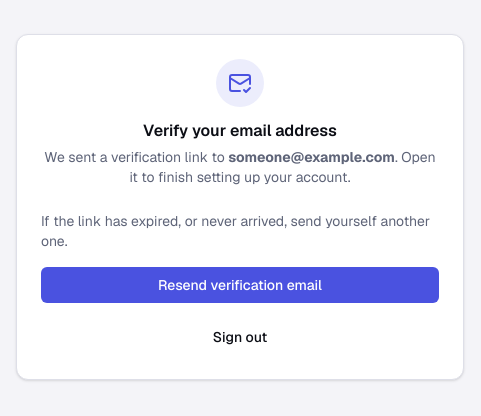
it: VerifyEmailNotice › resends and then disables the button for the cooldown
Click the button "Resend verification email".
click(240, 285)  # box [41, 267, 439, 303]
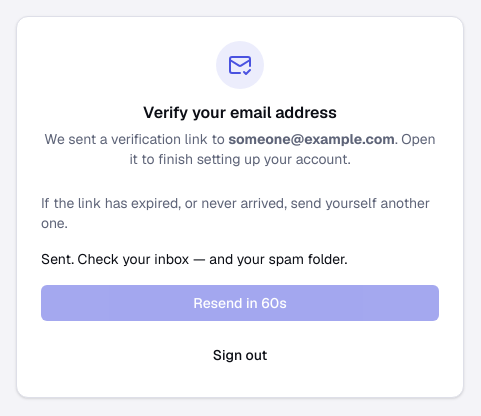
Now the message shows "Sent", box [41, 250, 347, 268]
Now the button "Resend in 60s" is disabled, box [41, 285, 439, 321]
